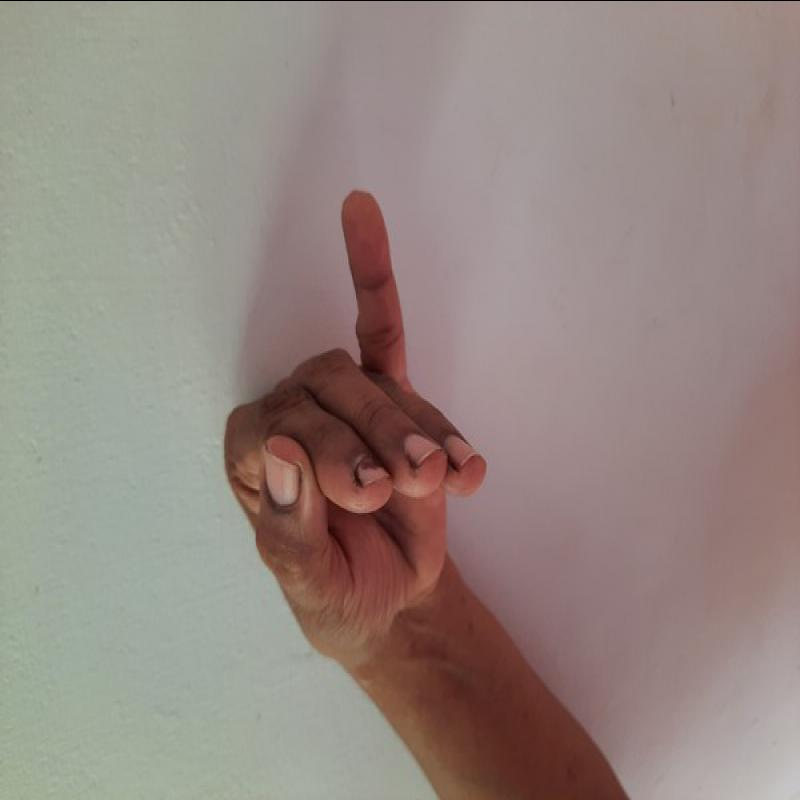Kartharee Mukham: (204, 178, 496, 677)
